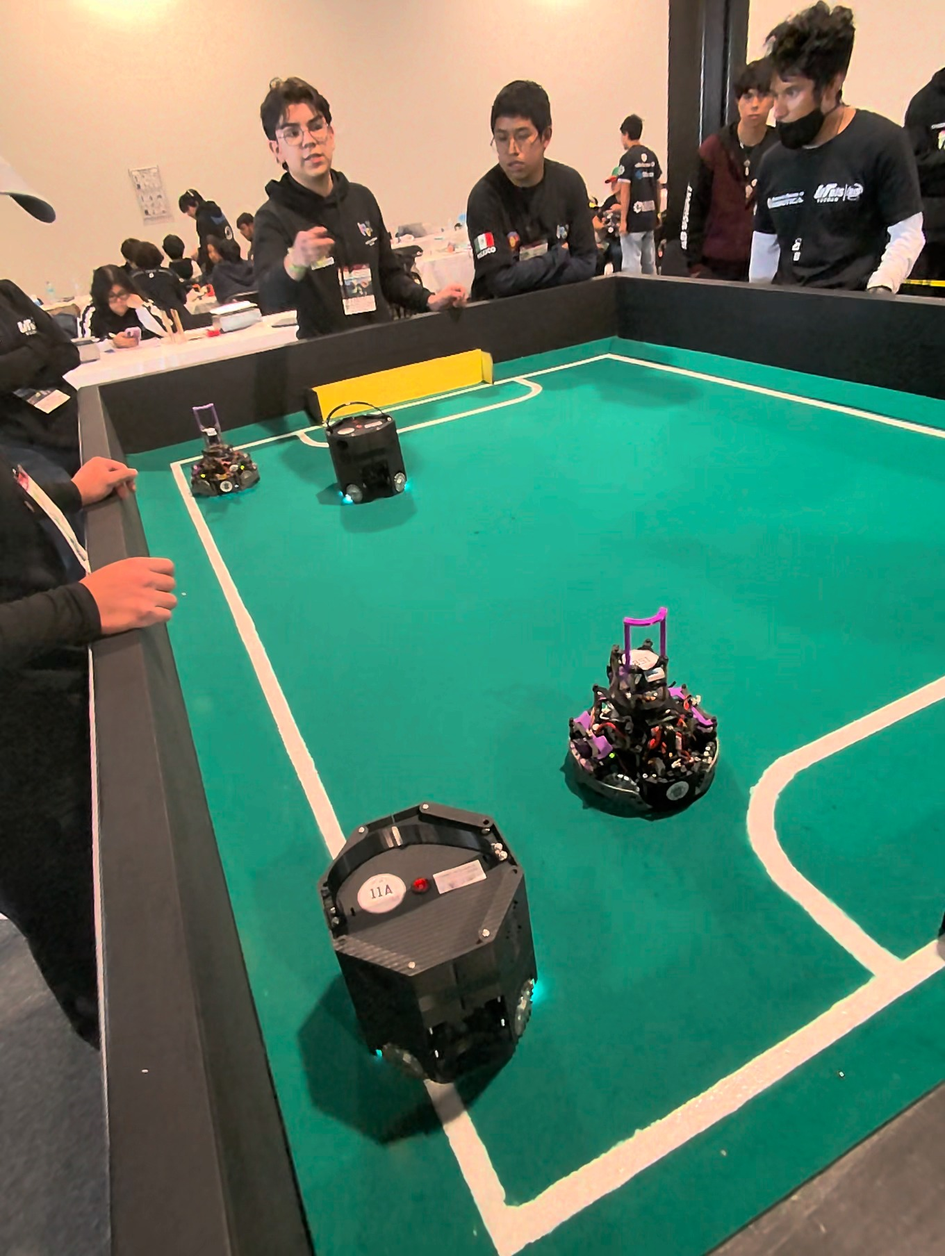Robot: (313, 808, 562, 1112), (567, 638, 718, 830), (324, 379, 425, 527), (189, 395, 264, 503)
